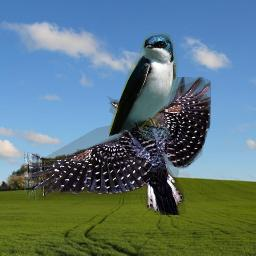Swallow: (109, 33, 178, 140)
Woodpecker: (24, 77, 211, 215)
